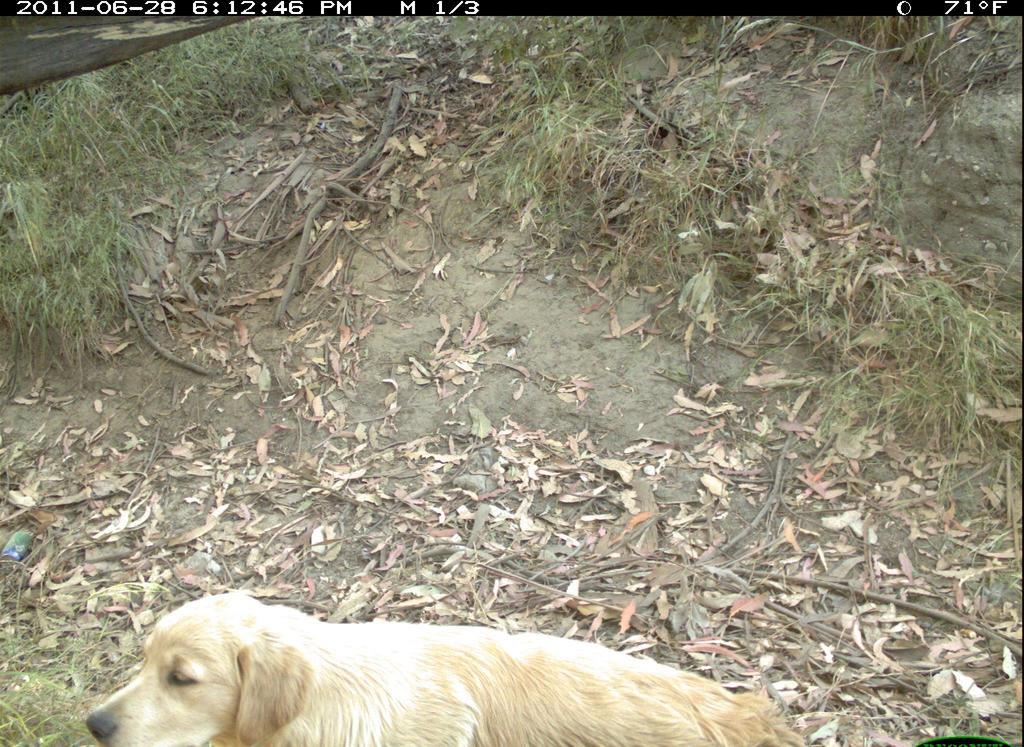dog: (66, 573, 829, 747)
